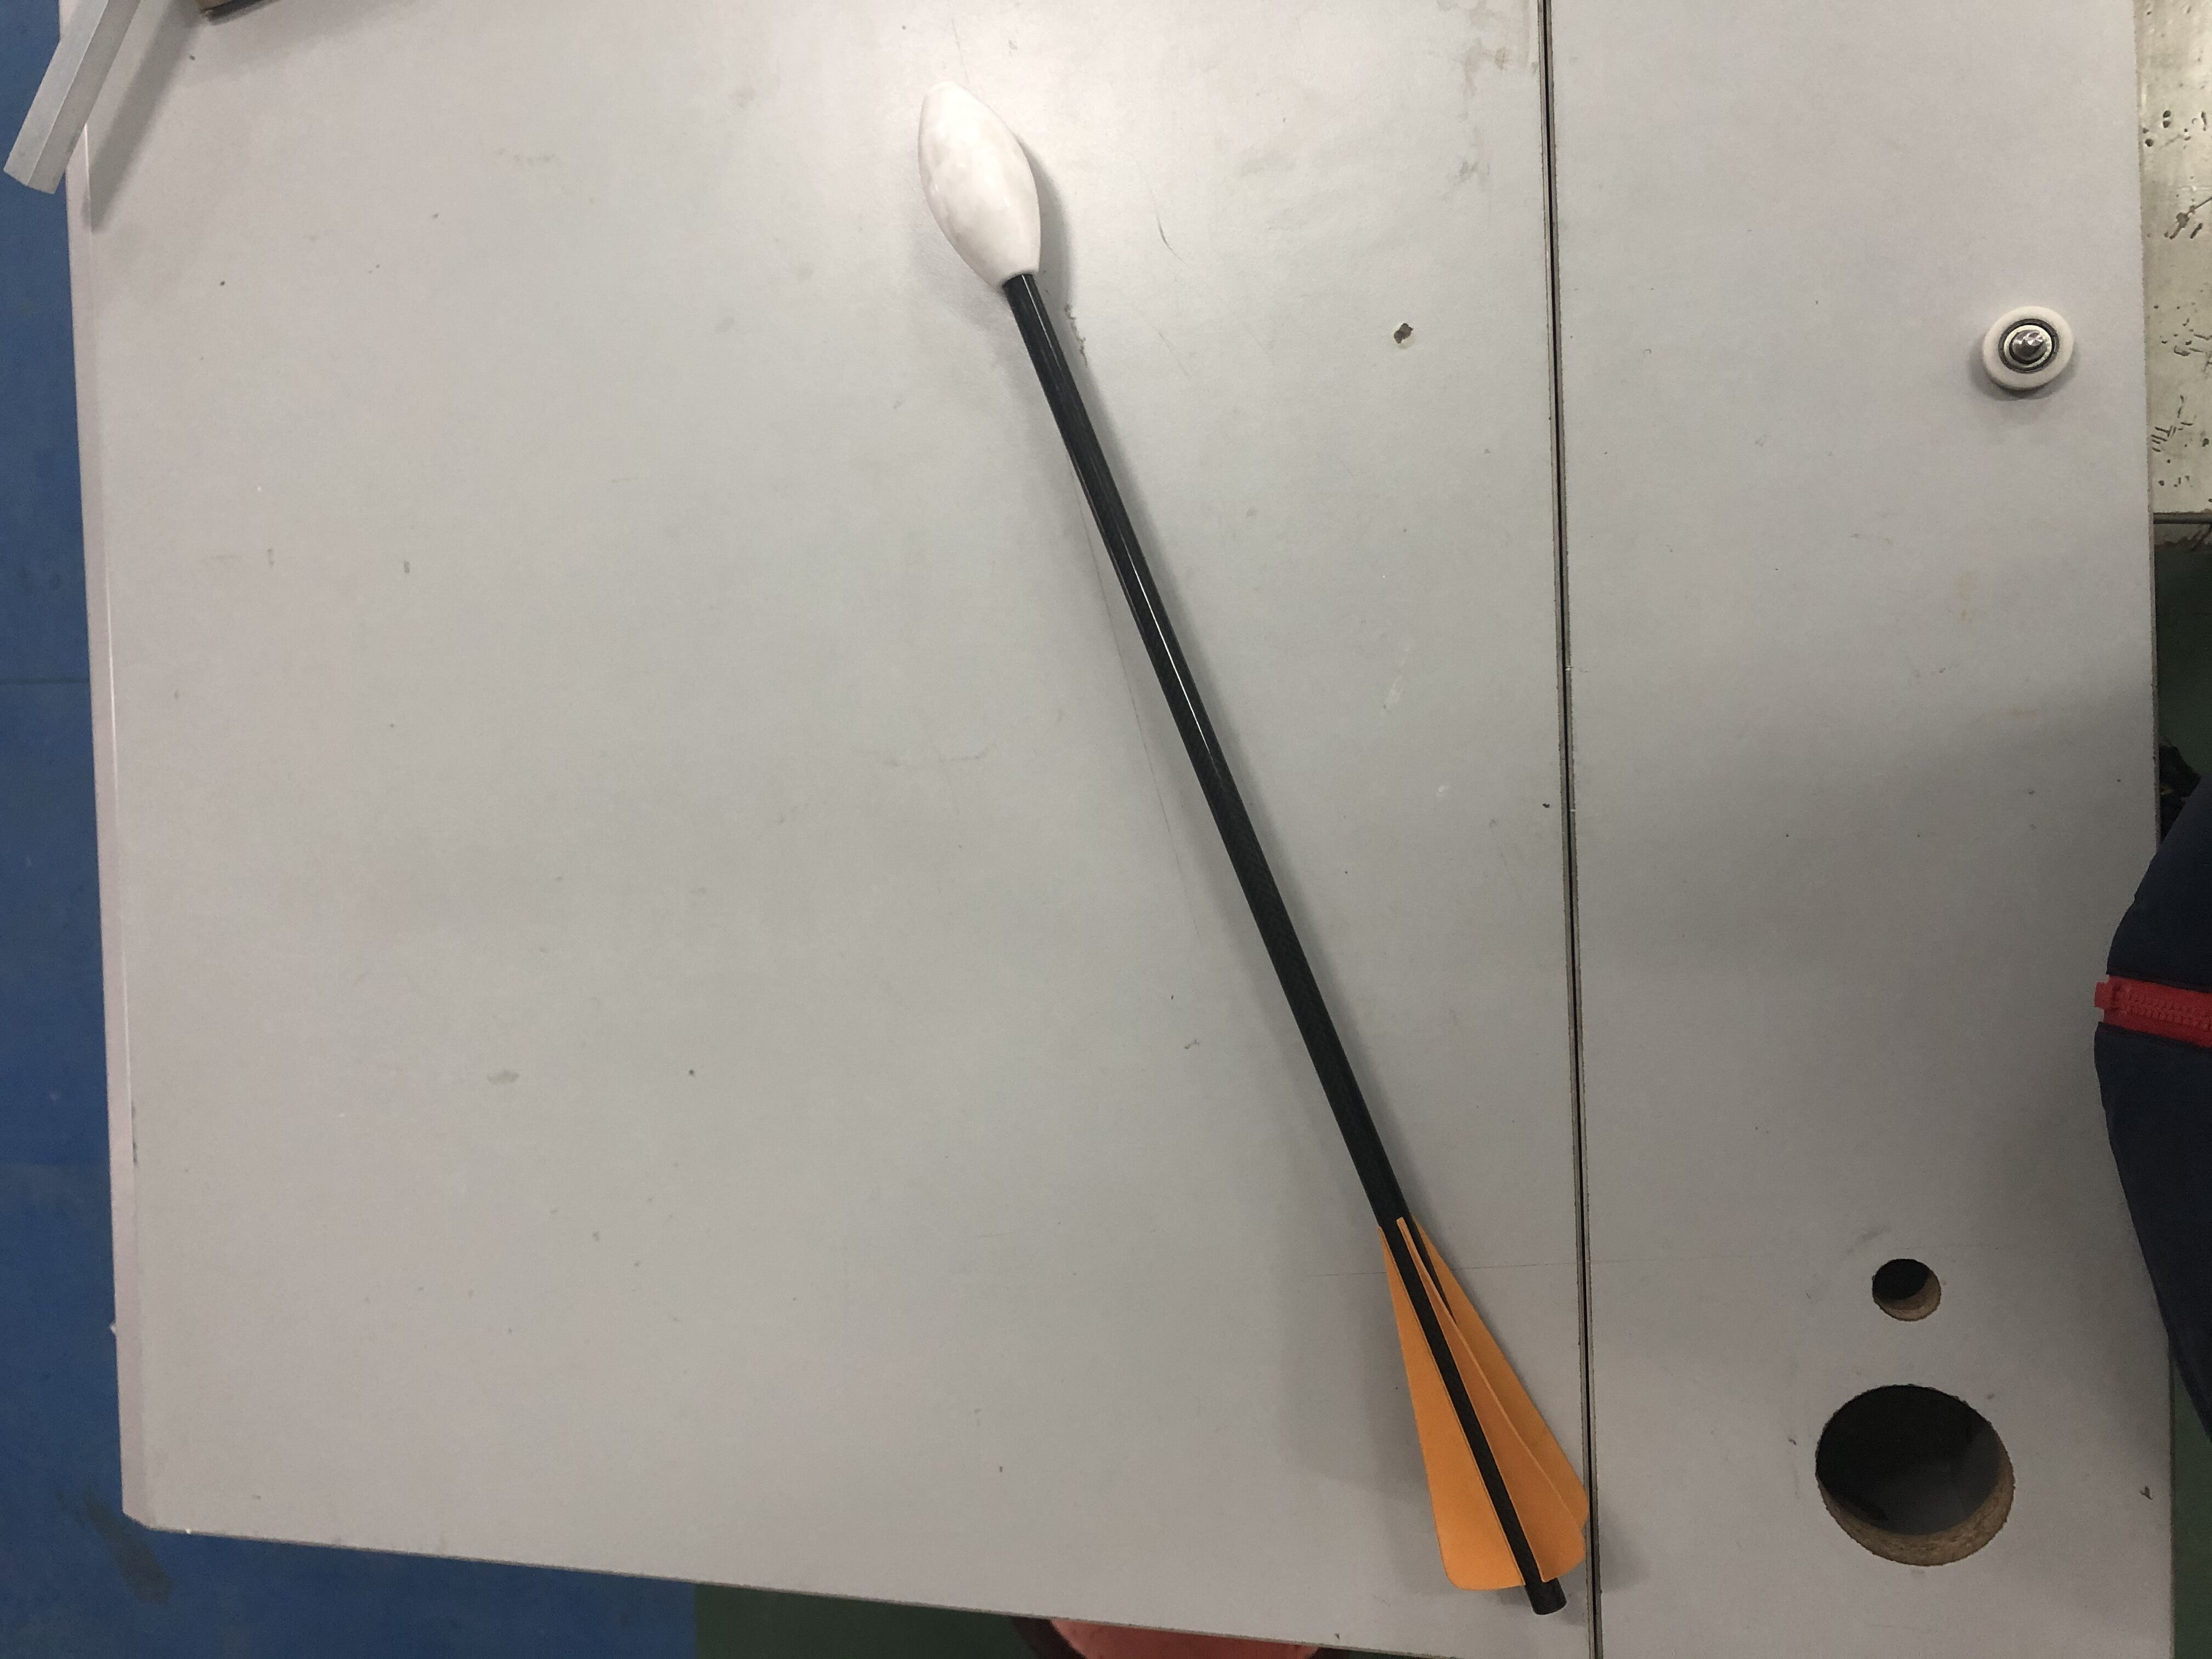arrow: (913, 78, 1592, 1621)
arrowFront: (916, 82, 1042, 293)
